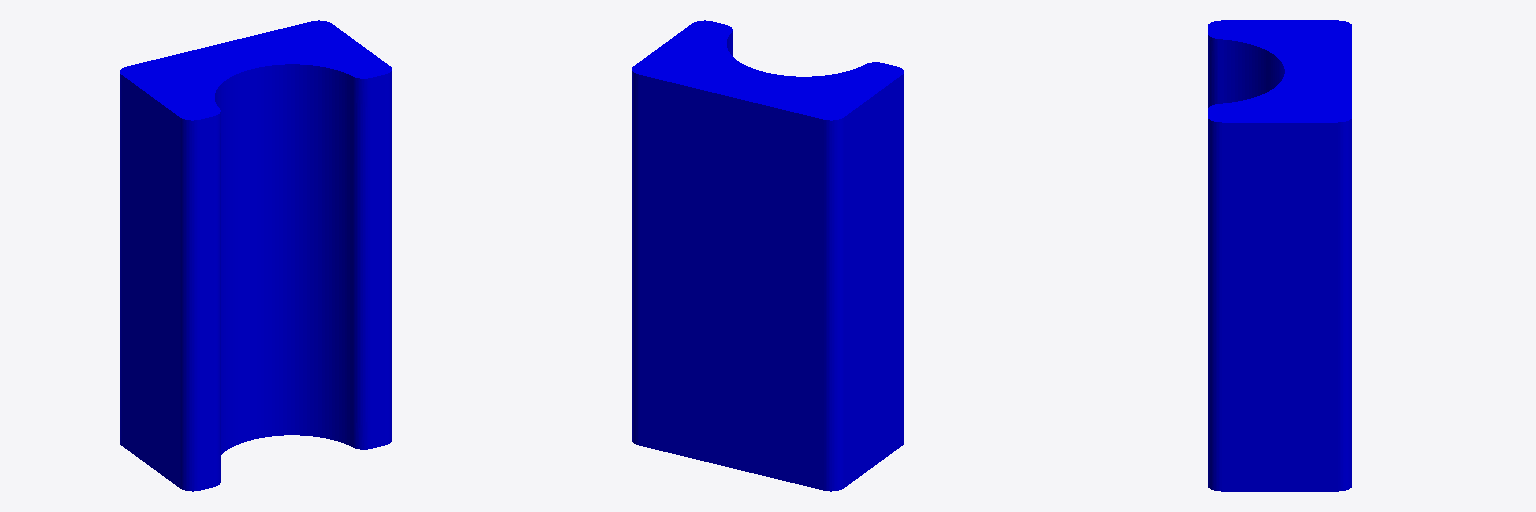
robot.urdf — board1_block6:
<?xml version="1.0"?>
<robot name="board1_block6">
    <link name="board1_block6">
        <visual>
            <origin xyz="0 0 0 " rpy=" 0 0 0"/>
            <geometry>
                <mesh filename="../meshes/SIMO_Board1_Block6.stl" scale="0.001 0.001 0.001"/>
            </geometry>
            <material name="red">
                <color rgba="0.0 0.0 1.0 1.0"/>
            </material>
        </visual>
        <collision>
            <origin xyz="0 0 0" rpy="0 0 0"/>
            <geometry>
                <mesh filename="../meshes/SIMO_Board1_Block6.stl" scale="0.001 0.001 0.001"/>
            </geometry>
        </collision>
    </link>
</robot>

--- Facts derived from the render (not from the file) ---
3 views of the same robot in one strip: view 1: azimuth 30°, elevation 25°; view 2: azimuth 150°, elevation 25°; view 3: azimuth 270°, elevation 25° (orthographic).
Robot: board1_block6 — 1 links, 0 joints (none); root link board1_block6; default pose: all joints at 0.
Visible links, largest first — view 1: board1_block6; view 2: board1_block6; view 3: board1_block6.
Boxes of the visible links, x1,y1,x2,y2 form: board1_block6: (120,20,391,491); board1_block6: (632,20,903,491); board1_block6: (1208,20,1351,491).
Bounding box of the posed robot: 0.0593 × 0.0356 × 0.1 m (x, y, z).
Meshes: 1 distinct files referenced, 1 mesh visuals loaded (1 ASCII STL).